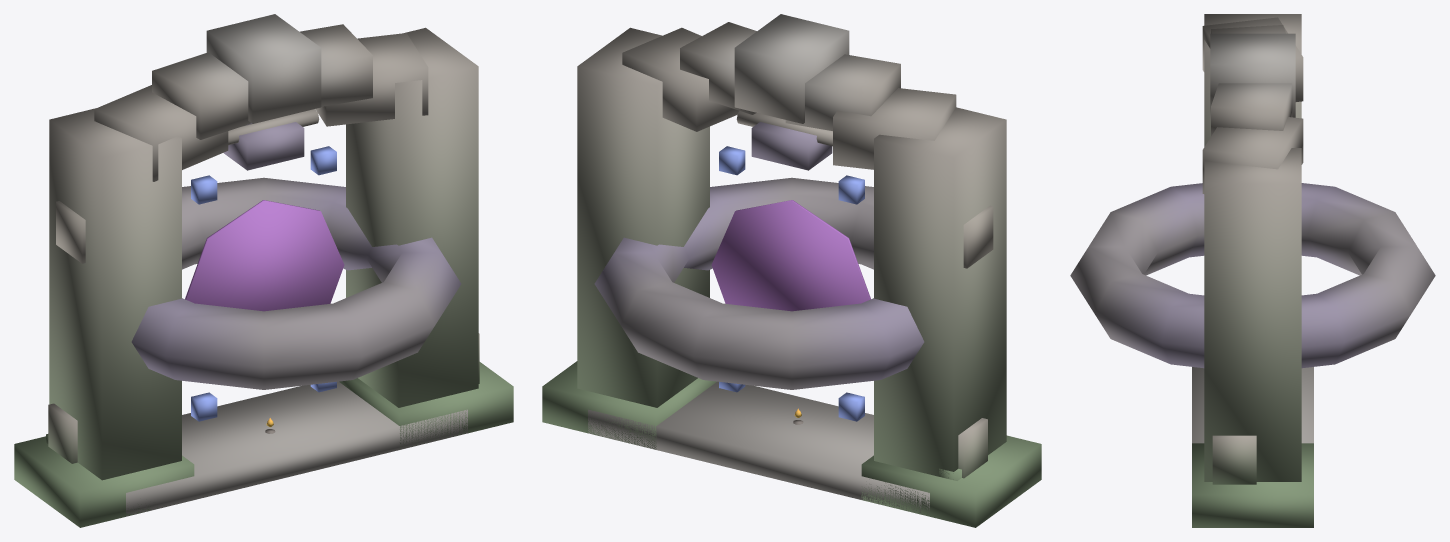
Rendered from dungeon.glb.
3 renders of one model, left to right at view 1: azimuth 30°, elevation 25°; view 2: azimuth 150°, elevation 25°; view 3: azimuth 270°, elevation 25°, orthographic. The views are drawn at different scales.
Visible parts, largest first — view 1: CaveEntrance, ExitPortal; view 2: CaveEntrance, ExitPortal; view 3: CaveEntrance, ExitPortal.
Boxes of the visible parts, x1=… form: CaveEntrance: x1=14, y1=14, x2=513, y2=527; ExitPortal: x1=126, y1=122, x2=467, y2=516; CaveEntrance: x1=542, y1=14, x2=1041, y2=527; ExitPortal: x1=588, y1=122, x2=929, y2=513; CaveEntrance: x1=1192, y1=14, x2=1313, y2=527; ExitPortal: x1=1070, y1=183, x2=1435, y2=443.
Size of the model in its own units: 3.8 by 3.45 by 3.
